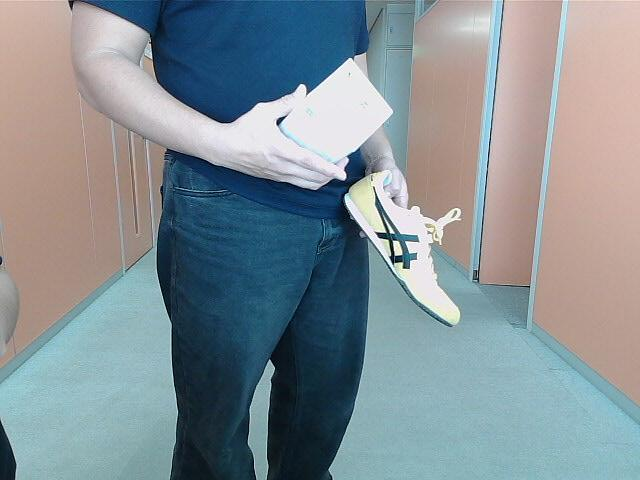Blind_box: (282, 62, 396, 172)
Shoes: (346, 174, 466, 330)
